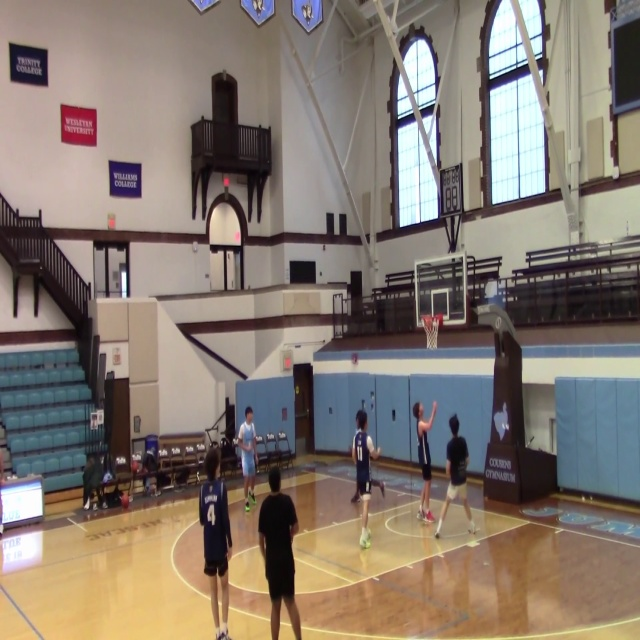Basketball: (413, 402, 423, 418)
